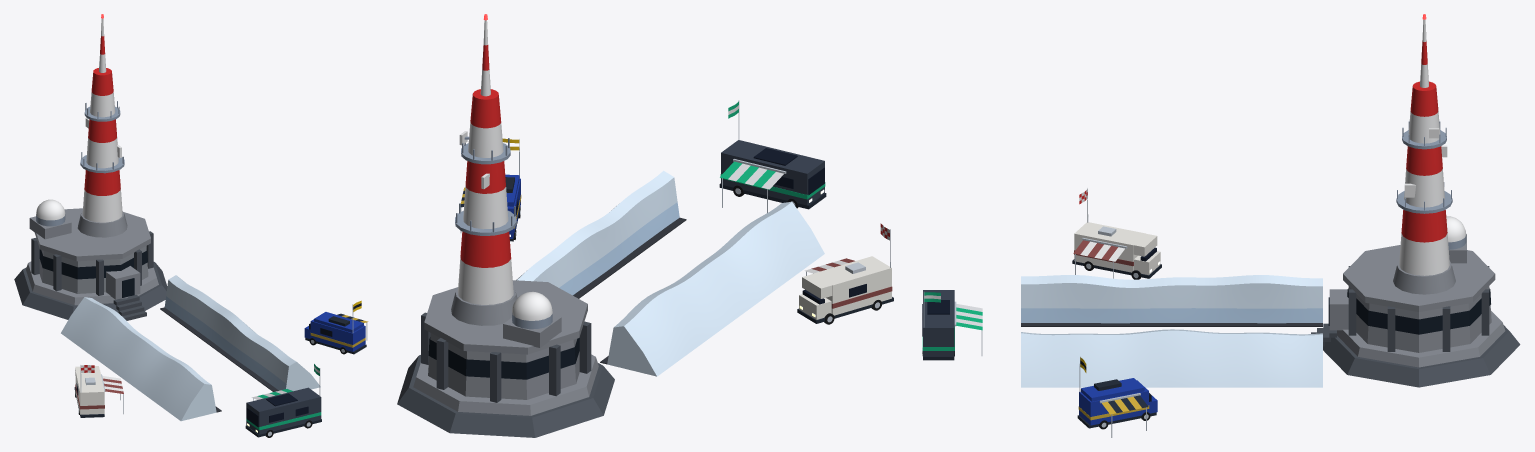
Rendered from alpine_summit_pack.glb.
3 views of the same model, side by side, from view 1: azimuth 30°, elevation 25°; view 2: azimuth 150°, elevation 25°; view 3: azimuth 270°, elevation 25° (orthographic). The views are drawn at different scales.
Parts seen in each view (by area): view 1: Alpine_Summit_Observatory, Alpine_Snow_Walls_Corridor, Alpine_RV_Camper_03_Expedition, Alpine_RV_Camper_02_Sprinter, Alpine_RV_Camper_01_Classic; view 2: Alpine_Summit_Observatory, Alpine_Snow_Walls_Corridor, Alpine_RV_Camper_03_Expedition, Alpine_RV_Camper_01_Classic, Alpine_RV_Camper_02_Sprinter; view 3: Alpine_Snow_Walls_Corridor, Alpine_Summit_Observatory, Alpine_RV_Camper_01_Classic, Alpine_RV_Camper_02_Sprinter, Alpine_RV_Camper_03_Expedition.
Part boxes in pixels (bbox=[...]): Alpine_Summit_Observatory: bbox=[14, 14, 167, 320]; Alpine_Snow_Walls_Corridor: bbox=[61, 275, 320, 421]; Alpine_RV_Camper_03_Expedition: bbox=[245, 364, 321, 437]; Alpine_RV_Camper_02_Sprinter: bbox=[304, 300, 368, 354]; Alpine_RV_Camper_01_Classic: bbox=[74, 365, 123, 417]; Alpine_Summit_Observatory: bbox=[397, 14, 614, 437]; Alpine_Snow_Walls_Corridor: bbox=[516, 170, 824, 376]; Alpine_RV_Camper_03_Expedition: bbox=[719, 100, 826, 212]; Alpine_RV_Camper_01_Classic: bbox=[797, 223, 893, 324]; Alpine_RV_Camper_02_Sprinter: bbox=[460, 138, 521, 241]; Alpine_Snow_Walls_Corridor: bbox=[1021, 275, 1322, 387]; Alpine_Summit_Observatory: bbox=[1311, 14, 1520, 387]; Alpine_RV_Camper_01_Classic: bbox=[1072, 188, 1161, 279]; Alpine_RV_Camper_02_Sprinter: bbox=[1077, 356, 1157, 437]; Alpine_RV_Camper_03_Expedition: bbox=[922, 290, 982, 360].
Bounding box in the file's own units: 31.48 × 27.15 × 43.59.
